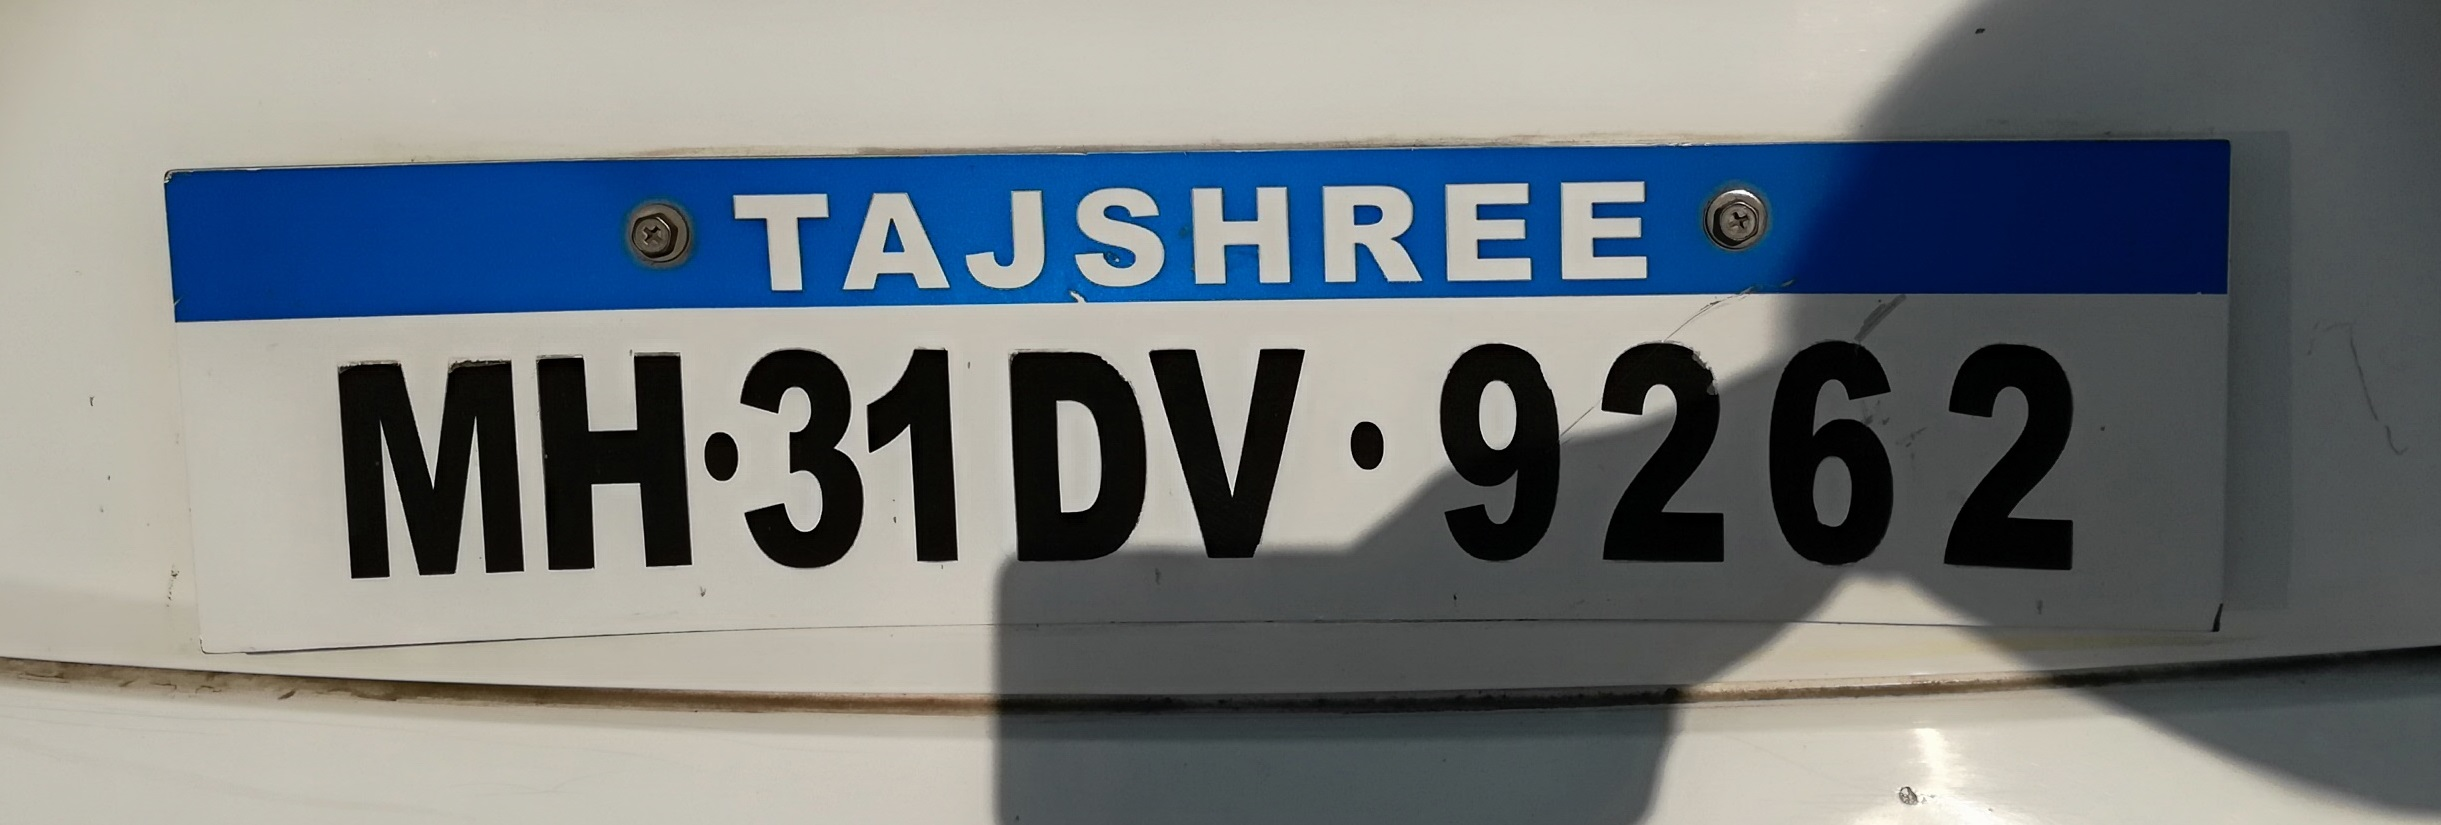numberplate: (152, 133, 2238, 661)
